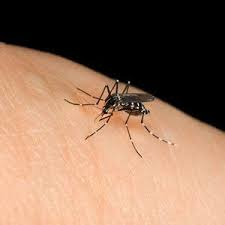dengue_mosquito: (61, 78, 177, 158)
